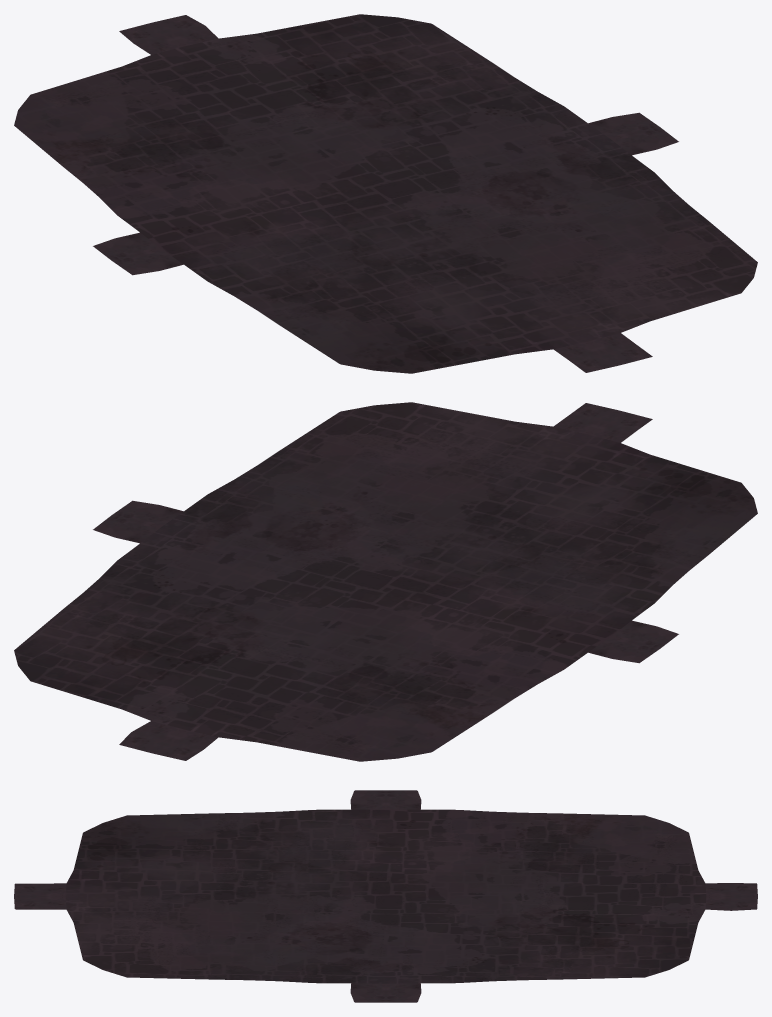
The model's file is new_miniboss_floor.fbx.
3 renders of one model, top to bottom at view 1: azimuth 30°, elevation 25°; view 2: azimuth 150°, elevation 25°; view 3: azimuth 270°, elevation 25°, orthographic. The views are drawn at different scales.
Parts seen in each view (by area): view 1: mini boss ground, mini boss ground.004, mini boss ground.002, mini boss ground.001, mini boss ground.003; view 2: mini boss ground, mini boss ground.004, mini boss ground.002, mini boss ground.001, mini boss ground.003; view 3: mini boss ground, mini boss ground.004, mini boss ground.002, mini boss ground.001, mini boss ground.003.
Part boxes in pixels (x1,y1,x2,y2): mini boss ground: [14, 14, 757, 373]; mini boss ground.004: [119, 15, 218, 54]; mini boss ground.002: [553, 333, 652, 372]; mini boss ground.001: [588, 112, 678, 155]; mini boss ground.003: [93, 232, 183, 275]; mini boss ground: [14, 402, 757, 761]; mini boss ground.004: [119, 721, 218, 760]; mini boss ground.002: [553, 403, 652, 442]; mini boss ground.001: [93, 500, 183, 543]; mini boss ground.003: [588, 620, 678, 663]; mini boss ground: [65, 809, 706, 983]; mini boss ground.004: [705, 883, 757, 910]; mini boss ground.002: [14, 883, 66, 909]; mini boss ground.001: [350, 983, 421, 1002]; mini boss ground.003: [350, 790, 421, 809].
Bounding box in the file's own units: 2637 × 0.000635 × 3900.
